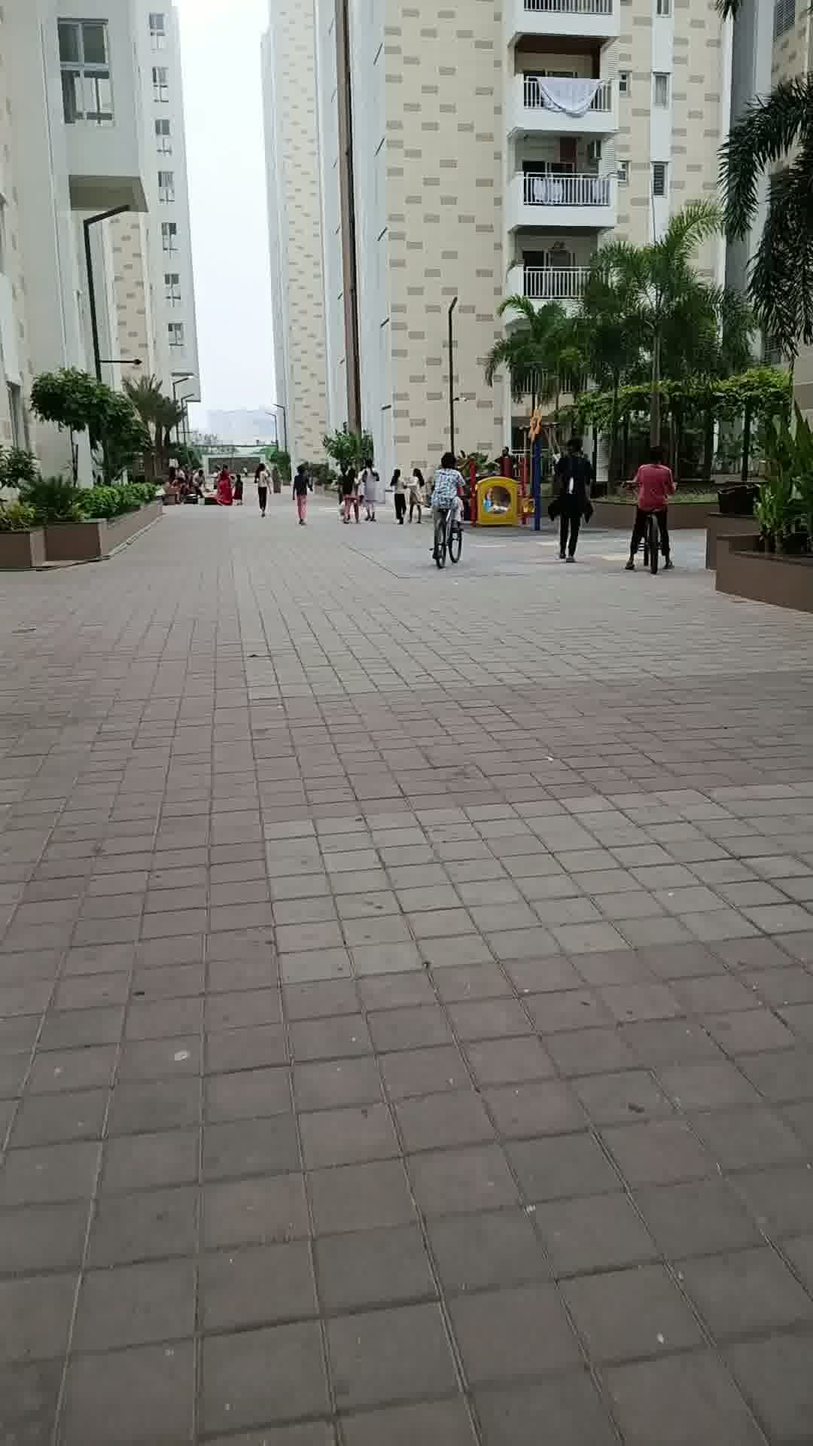person: (621, 427, 681, 578), (546, 415, 593, 580), (427, 436, 471, 586), (356, 444, 387, 539), (284, 447, 317, 532), (332, 443, 364, 529), (387, 458, 415, 528), (247, 445, 274, 516), (204, 450, 233, 510), (404, 455, 427, 527)
tree: (708, 46, 813, 495), (589, 211, 703, 458), (487, 273, 569, 478), (28, 347, 117, 515), (121, 368, 170, 485), (159, 381, 186, 506)
